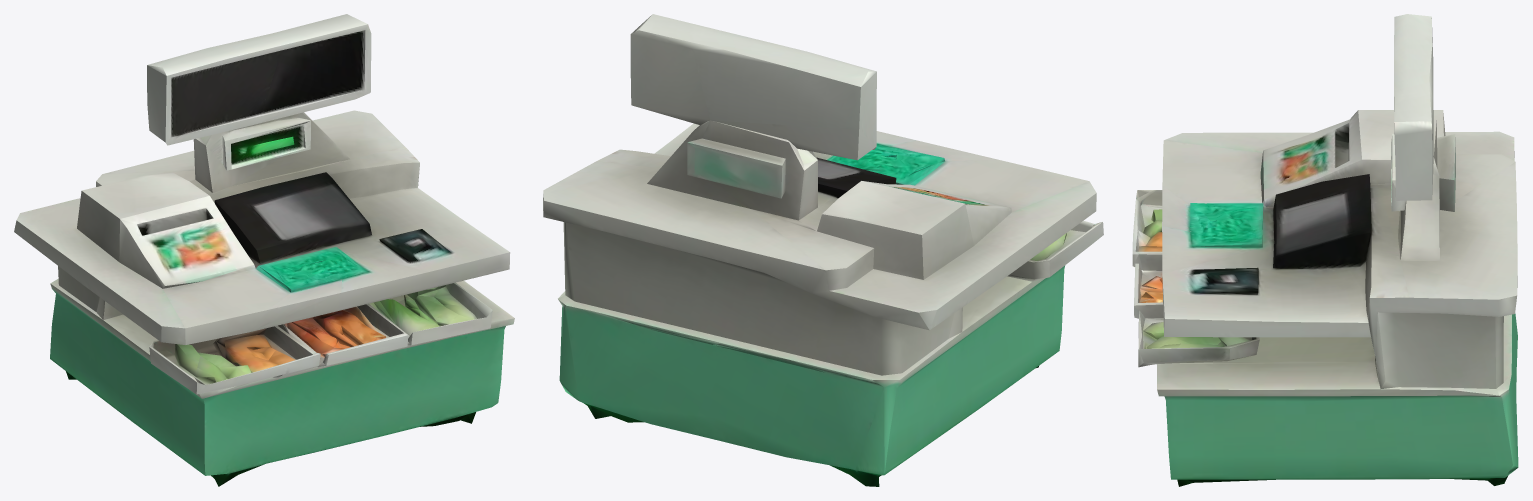
File: checkoutCounter.glb
The picture shows the model from 3 angles, left to right: view 1: azimuth 30°, elevation 25°; view 2: azimuth 150°, elevation 25°; view 3: azimuth 270°, elevation 25°; orthographic projection. The views are drawn at different scales.
Visible parts, largest first — view 1: model; view 2: model; view 3: model.
Part boxes in pixels (bbox=[...]): model: bbox=[14, 14, 514, 486]; model: bbox=[543, 14, 1103, 486]; model: bbox=[1132, 14, 1518, 486].
Bounding box in the file's own units: 1.9 × 1.69 × 1.63.
1 material, 1 textured.
